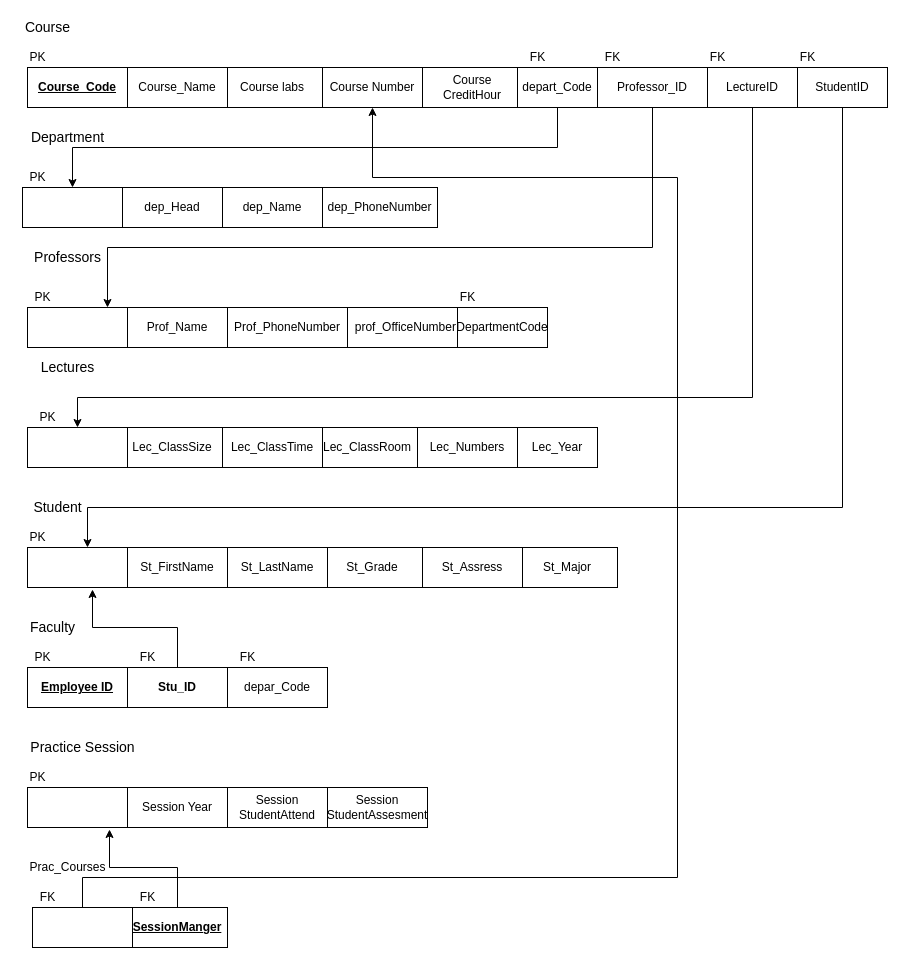
This 905x965 diagram has some shape labels left out. Each missing label, with the box of its shape:
CourseNumber: (32, 906, 132, 948)
dep_Code: (22, 186, 122, 228)
Lec_ID: (26, 426, 128, 468)
prof_ID: (26, 306, 128, 348)
Session Manger: (26, 786, 128, 828)
St_ID: (26, 546, 128, 588)
